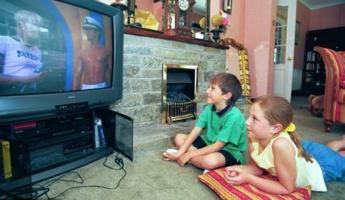person: (163, 73, 249, 172)
